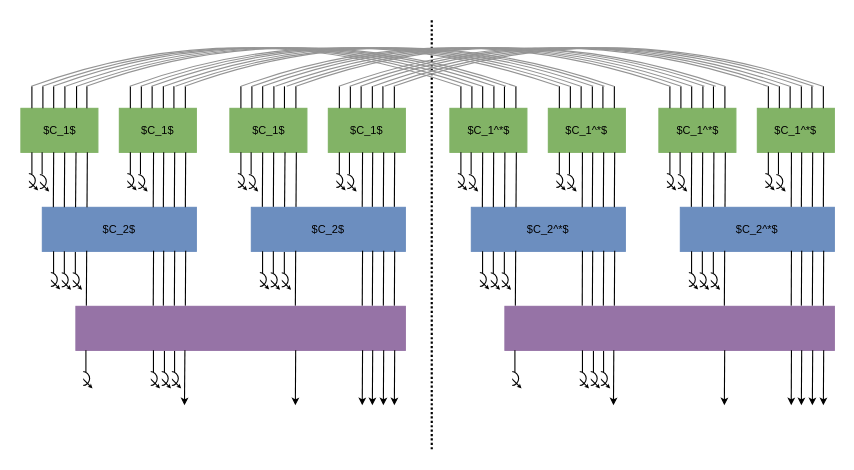
Some shapes in this 854 by 470 pixel diagram are drawn without their labels. Here are the shapes that lost their labels. From the top down, the centre of each, then its label:
At [240,327]: "$C_3$".
At [669,327]: "$C_3^*$".
